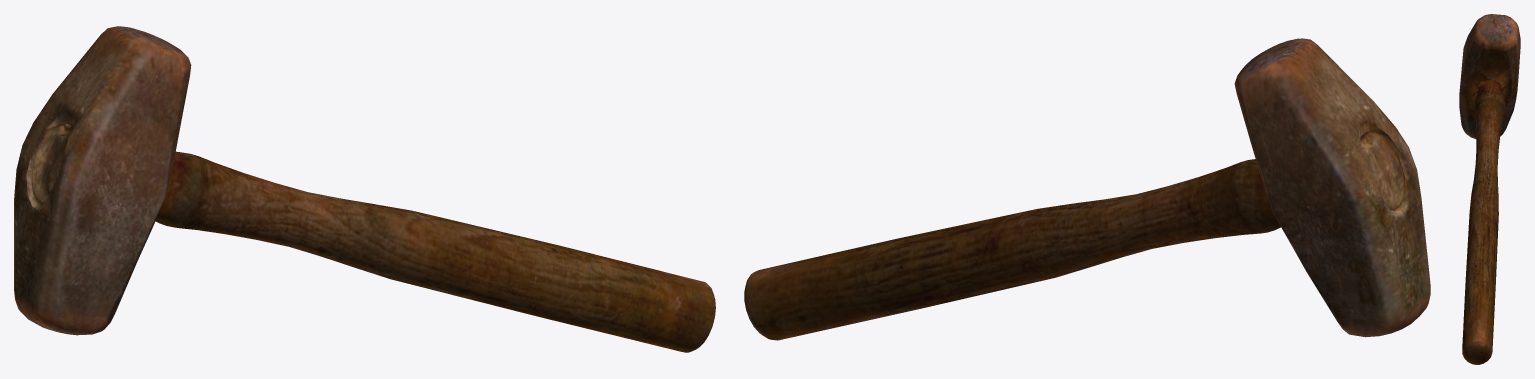
File: old_hammer.glb
The picture shows the model from 3 angles, left to right: view 1: azimuth 30°, elevation 25°; view 2: azimuth 150°, elevation 25°; view 3: azimuth 270°, elevation 25°; orthographic projection. The views are drawn at different scales.
Visible parts, largest first — view 1: old_hammer; view 2: old_hammer; view 3: old_hammer.
Part boxes in pixels (left/top/right/bottom): old_hammer: left=14, top=26, right=715, bottom=352; old_hammer: left=744, top=38, right=1430, bottom=340; old_hammer: left=1459, top=14, right=1520, bottom=364.
Size of what is drawn, in the model's own units: 0.32 by 0.1967 by 0.0502.
Materials: 1 (1 with a texture image).
